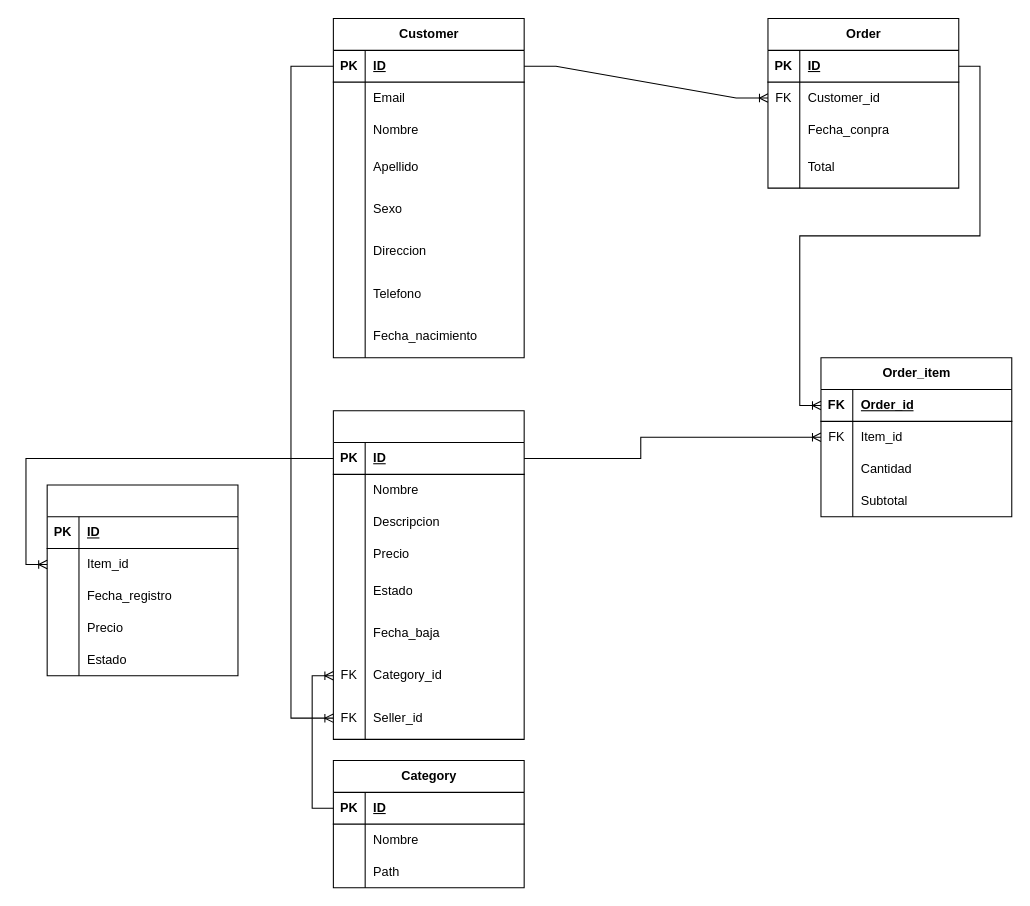
The diagram is 1030 pixels wide and 906 high, and some of its shapes have lost their labels. Each missing label, with the box of its shape:
Item: (332, 410, 524, 739)
Item_history: (46, 484, 238, 676)
